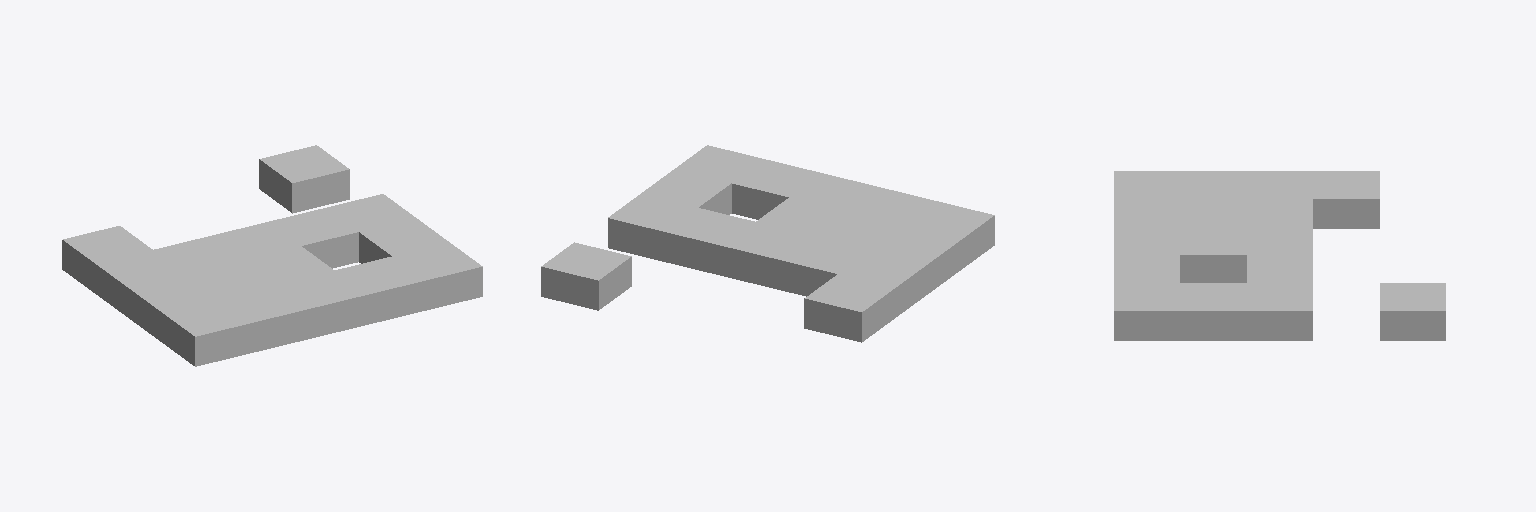
File: 75s_block.obj
3 renders of one model, left to right at view 1: azimuth 30°, elevation 25°; view 2: azimuth 150°, elevation 25°; view 3: azimuth 270°, elevation 25°, orthographic.
Parts seen in each view (by area): view 1: block.0.0_block.5067, block.4.4_block.5083, block.4.0_block.5080, block.2.0_block.5074, block.1.0_block.5071, block.3.0_block.5077, block.3.2_block.5079, block.0.3_block.5070, block.0.2_block.5069, block.0.1_block.5068, block.4.1_block.5081, block.1.1_block.5072 (+4 smaller); view 2: block.0.3_block.5070, block.4.4_block.5083, block.3.2_block.5079, block.2.2_block.5076, block.4.2_block.5082, block.1.2_block.5073, block.3.0_block.5077, block.0.1_block.5068, block.0.0_block.5067, block.0.2_block.5069, block.4.1_block.5081, block.2.0_block.5074 (+4 smaller); view 3: block.0.3_block.5070, block.4.1_block.5081, block.4.0_block.5080, block.4.2_block.5082, block.4.4_block.5083, block.2.1_block.5075, block.0.1_block.5068, block.1.1_block.5072, block.0.0_block.5067, block.0.2_block.5069, block.1.0_block.5071, block.1.2_block.5073 (+4 smaller).
Part boxes in pixels (bbox=[...]): block.0.0_block.5067: bbox=[162, 298, 252, 366]; block.4.4_block.5083: bbox=[259, 145, 349, 213]; block.4.0_block.5080: bbox=[392, 242, 482, 310]; block.2.0_block.5074: bbox=[277, 270, 367, 338]; block.1.0_block.5071: bbox=[220, 285, 309, 352]; block.3.0_block.5077: bbox=[335, 257, 424, 324]; block.3.2_block.5079: bbox=[269, 208, 358, 268]; block.0.3_block.5070: bbox=[62, 226, 152, 293]; block.0.2_block.5069: bbox=[96, 250, 184, 317]; block.0.1_block.5068: bbox=[129, 274, 218, 341]; block.4.1_block.5081: bbox=[359, 218, 448, 263]; block.1.1_block.5072: bbox=[187, 260, 276, 297]; block.0.3_block.5070: bbox=[804, 274, 894, 342]; block.4.4_block.5083: bbox=[541, 242, 631, 310]; block.3.2_block.5079: bbox=[665, 208, 754, 275]; block.2.2_block.5076: bbox=[723, 222, 811, 289]; block.4.2_block.5082: bbox=[608, 194, 696, 261]; block.1.2_block.5073: bbox=[780, 236, 869, 296]; block.3.0_block.5077: bbox=[732, 159, 821, 219]; block.0.1_block.5068: bbox=[871, 226, 961, 293]; block.0.0_block.5067: bbox=[904, 201, 994, 268]; block.0.2_block.5069: bbox=[839, 250, 927, 317]; block.4.1_block.5081: bbox=[641, 169, 731, 214]; block.2.0_block.5074: bbox=[789, 173, 878, 210]; block.0.3_block.5070: bbox=[1313, 171, 1379, 228]; block.4.1_block.5081: bbox=[1180, 283, 1246, 340]; block.4.0_block.5080: bbox=[1114, 283, 1179, 340]; block.4.2_block.5082: bbox=[1247, 283, 1312, 340]; block.4.4_block.5083: bbox=[1380, 283, 1445, 340]; block.2.1_block.5075: bbox=[1180, 227, 1246, 282]; block.0.1_block.5068: bbox=[1180, 171, 1246, 198]; block.1.1_block.5072: bbox=[1180, 199, 1246, 226]; block.0.0_block.5067: bbox=[1114, 171, 1179, 198]; block.0.2_block.5069: bbox=[1247, 171, 1312, 198]; block.1.0_block.5071: bbox=[1114, 199, 1179, 226]; block.1.2_block.5073: bbox=[1247, 199, 1312, 226].
Size of the model in its own units: 10 by 1 by 10.